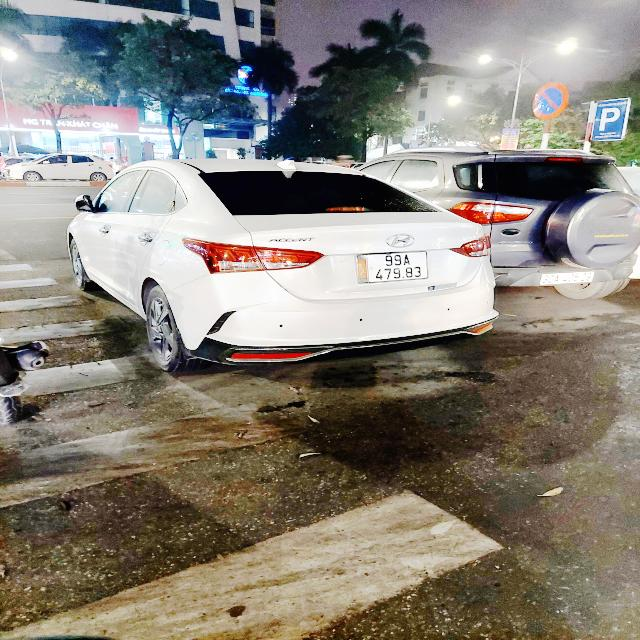license_plate: (357, 252, 432, 286), (537, 271, 597, 287)
